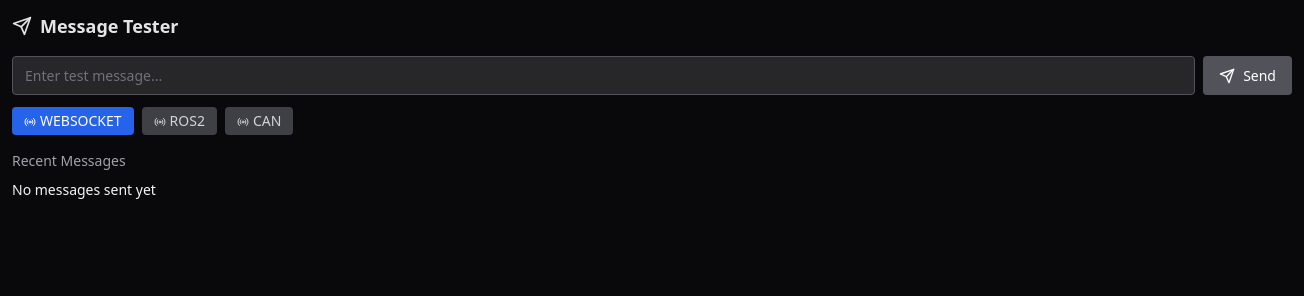
Scenario: MessageTester Component › shows CAN message type selector when CAN is selected
expect the text "CAN Message Type:" is not shown: met
Click CAN button
Step 1. Click the button "CAN" → click(259, 121), box [225,107,293,135]
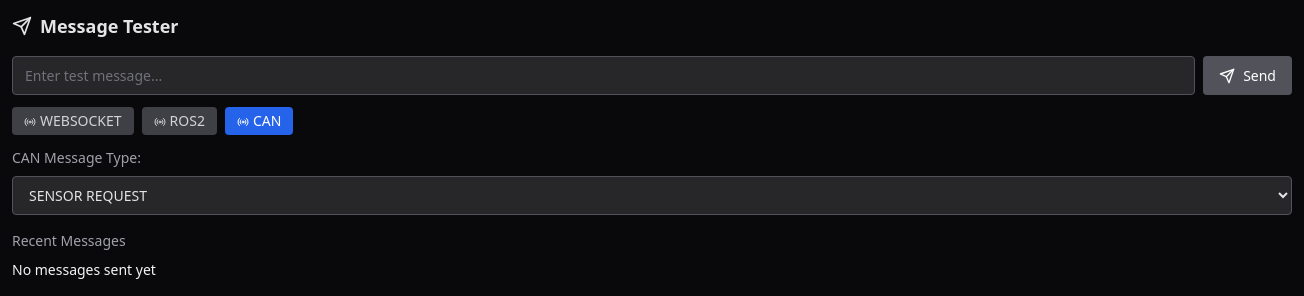
expect the text "CAN Message Type:" is shown: met, box [12,148,141,167]
